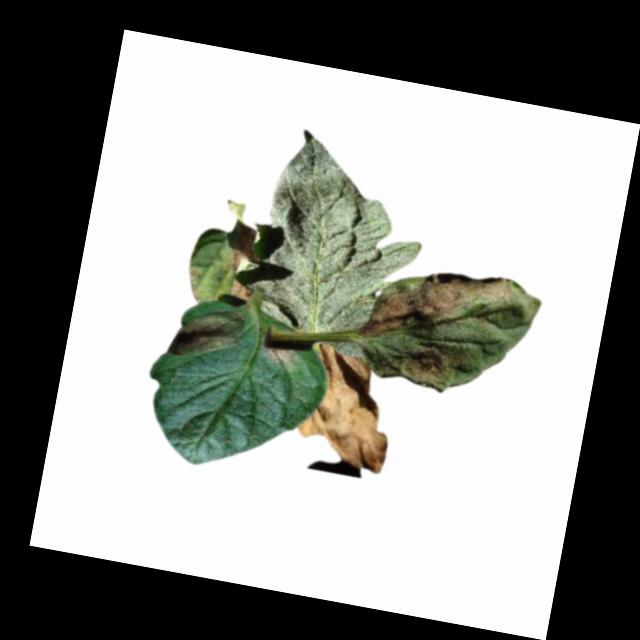Late_blight: (358, 254, 521, 360), (289, 339, 403, 475), (369, 334, 468, 393), (167, 301, 248, 368), (232, 226, 259, 272), (264, 341, 298, 372), (184, 268, 207, 302), (228, 279, 254, 303)
healthy: (229, 122, 436, 349)
